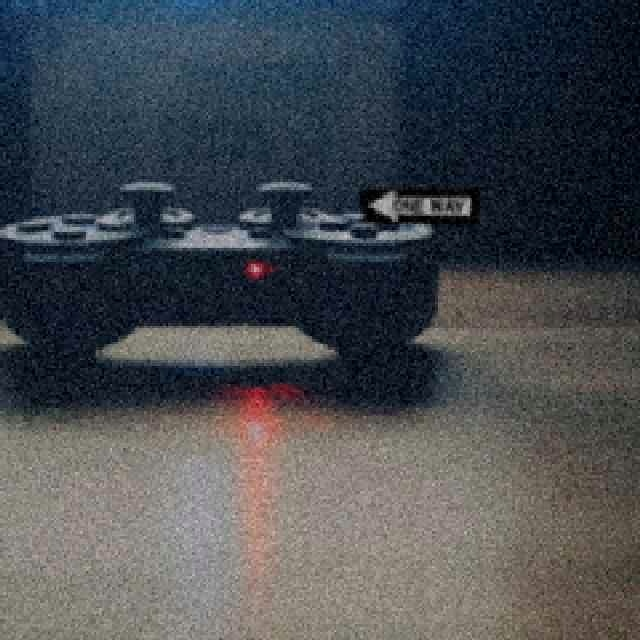ONE_WAY_ left: (358, 186, 479, 224)
